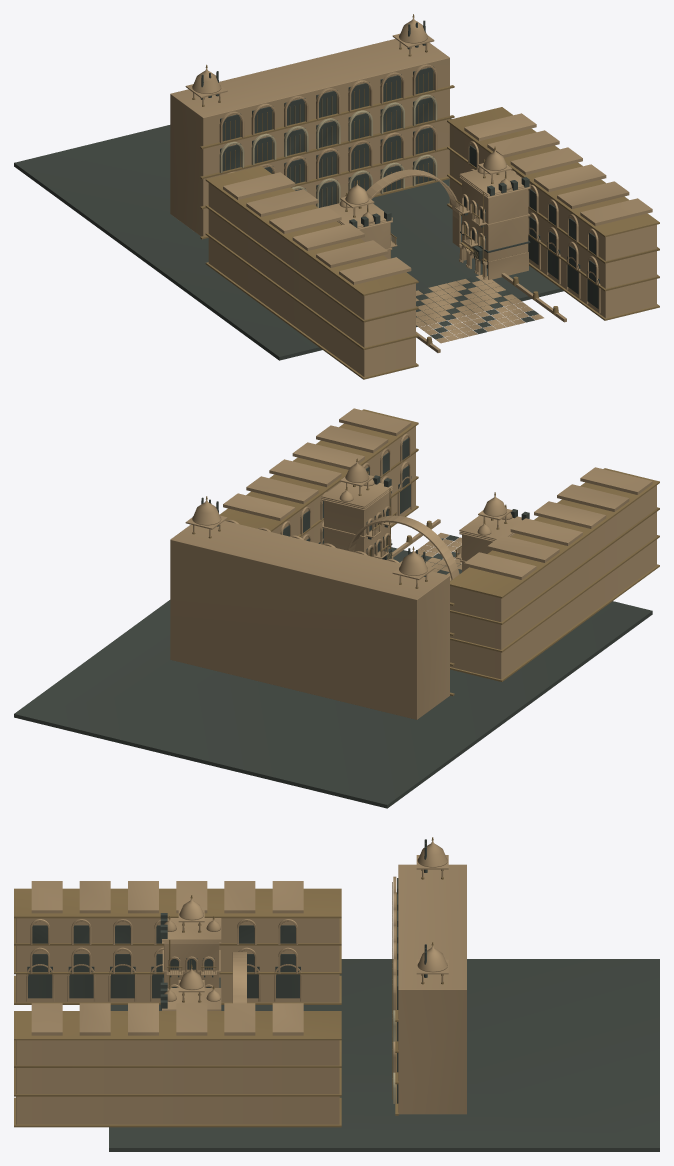
File: arena-10.glb
The picture shows the model from 3 angles, top to bottom: view 1: azimuth 30°, elevation 25°; view 2: azimuth 150°, elevation 25°; view 3: azimuth 270°, elevation 25°; orthographic projection. The views are drawn at different scales.
Visible parts, largest first — view 1: correction-sand, correction-dark, correction-bronze, correction-plaster; view 2: correction-sand, correction-dark, correction-bronze; view 3: correction-sand, correction-dark, correction-bronze.
Part boxes in pixels (<box>): correction-sand: <box>170,17,656,376</box>; correction-dark: <box>14,20,599,360</box>; correction-bronze: <box>192,14,659,379</box>; correction-plaster: <box>219,94,437,207</box>; correction-sand: <box>170,408,656,719</box>; correction-dark: <box>14,438,652,808</box>; correction-bronze: <box>192,409,659,695</box>; correction-sand: <box>16,840,466,1124</box>; correction-dark: <box>27,839,659,1151</box>; correction-bronze: <box>14,837,443,1127</box>.
Size of the model in its own units: 65 by 26.86 by 93.8.
